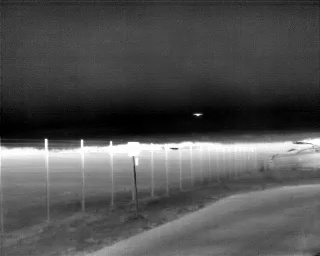AIRPLANE: (192, 110, 204, 119)
